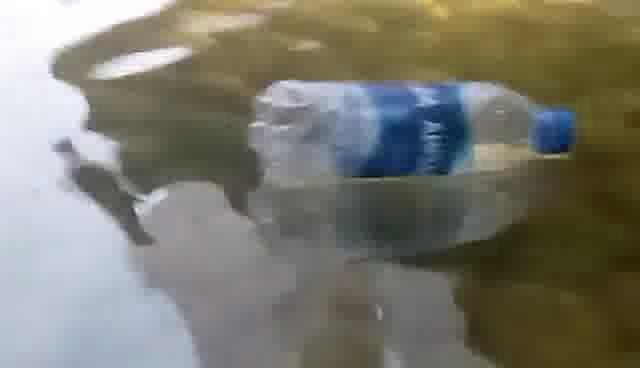Plastic: (244, 75, 589, 184)
